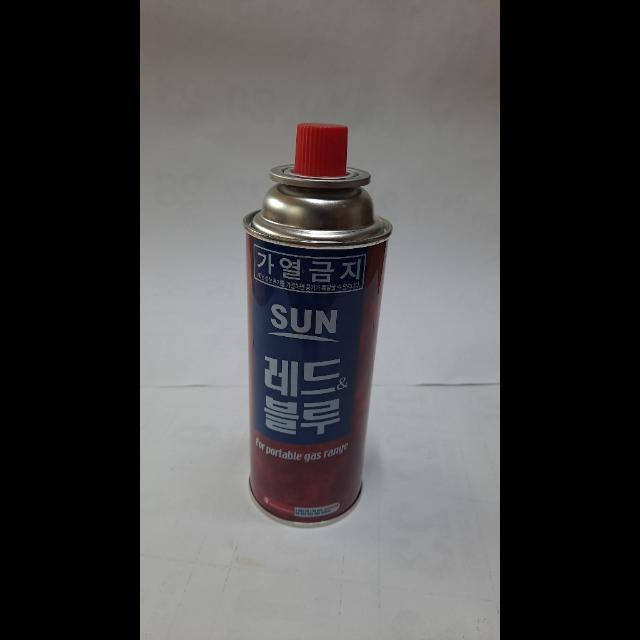chemical_spray_can: (228, 108, 404, 546)
